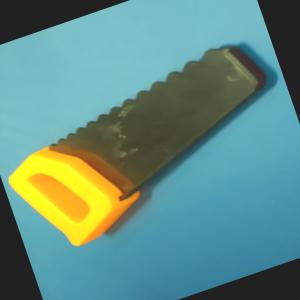serrote: (0, 33, 298, 260)
